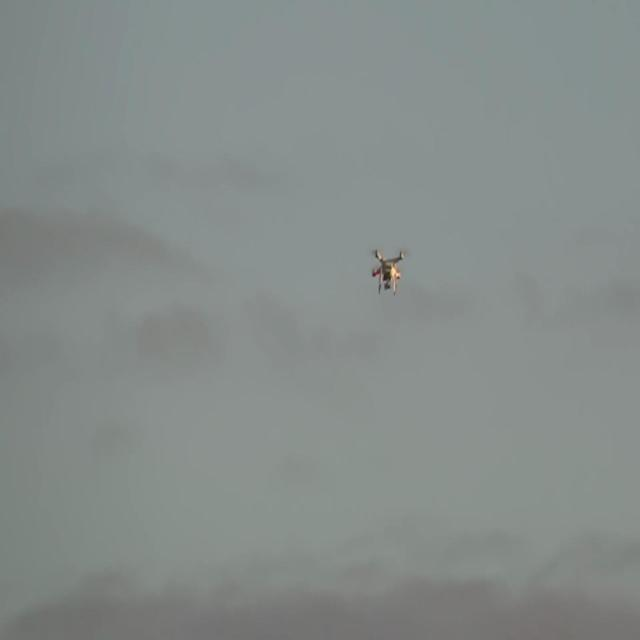drone: (368, 243, 406, 296)
